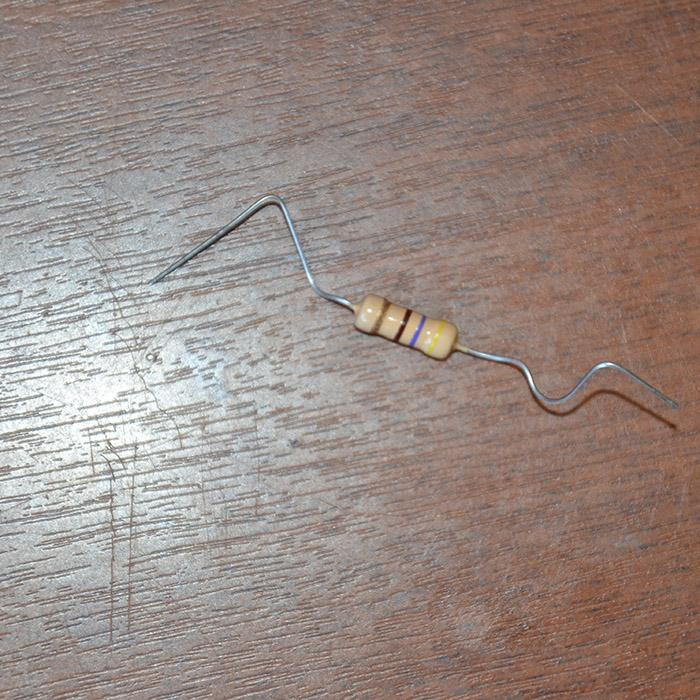resistor: (353, 292, 459, 359)
